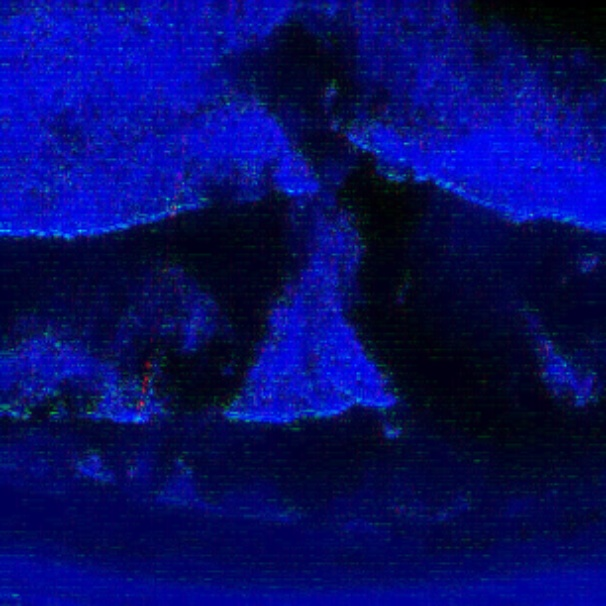rip_current: (153, 38, 316, 475)
